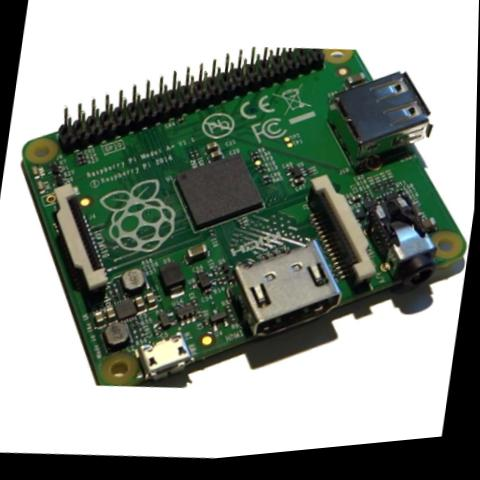Raspberry-Pi-1-Model-A-: (0, 6, 479, 437)
